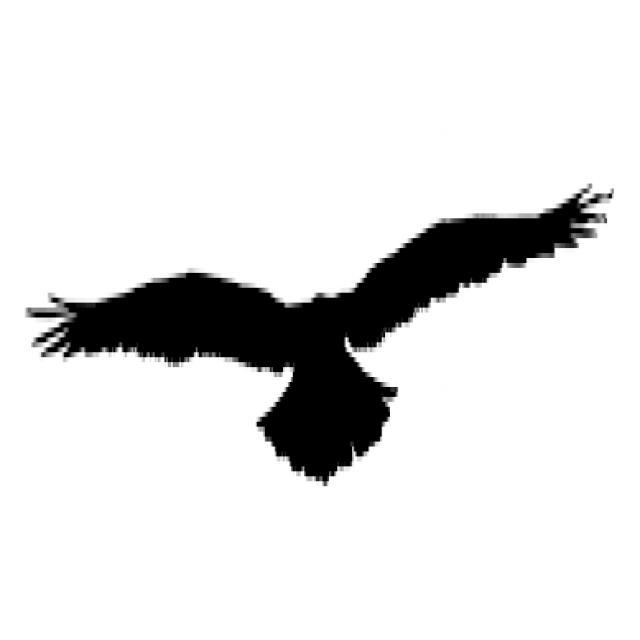bird: (15, 61, 599, 528)
